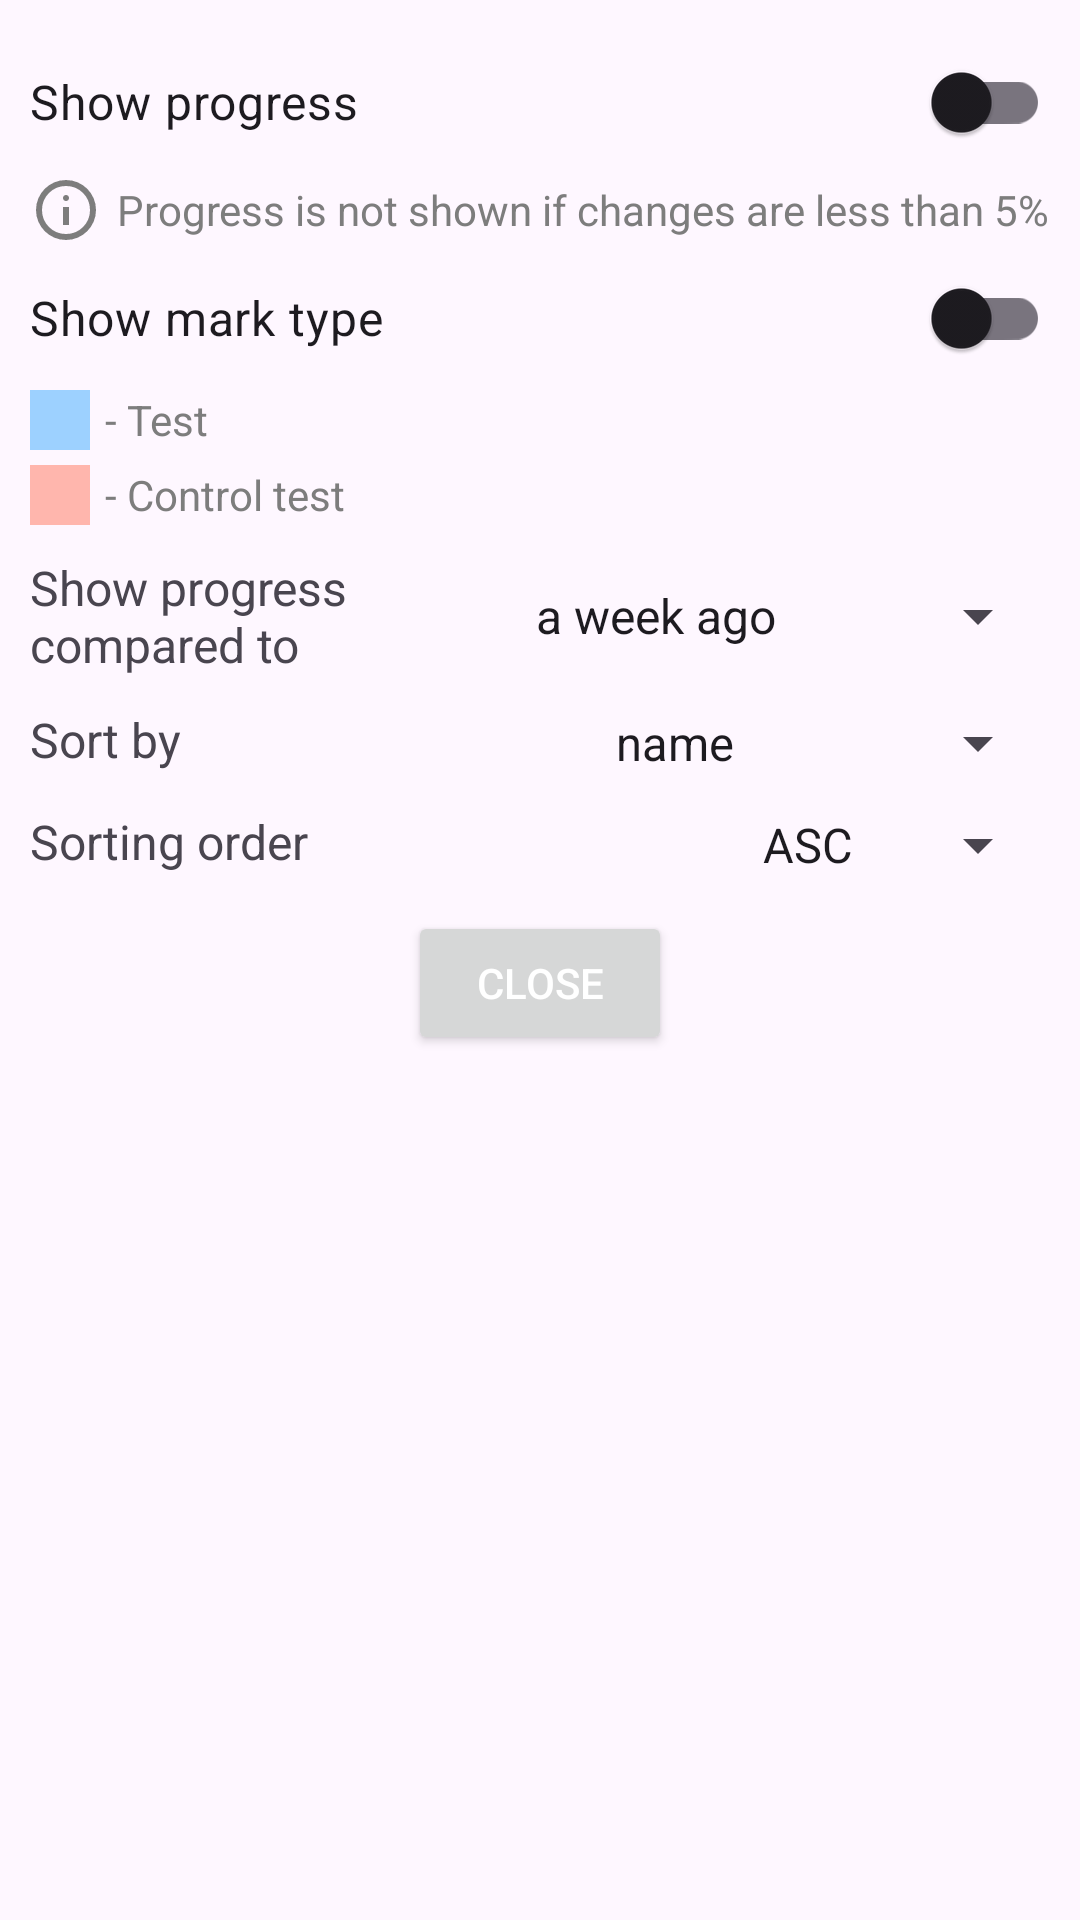

Named icons in this screenshot (1080w x 1920h) and their bounding boxes, (x1, y1, x2, y2):
info: (36, 180, 96, 240)
